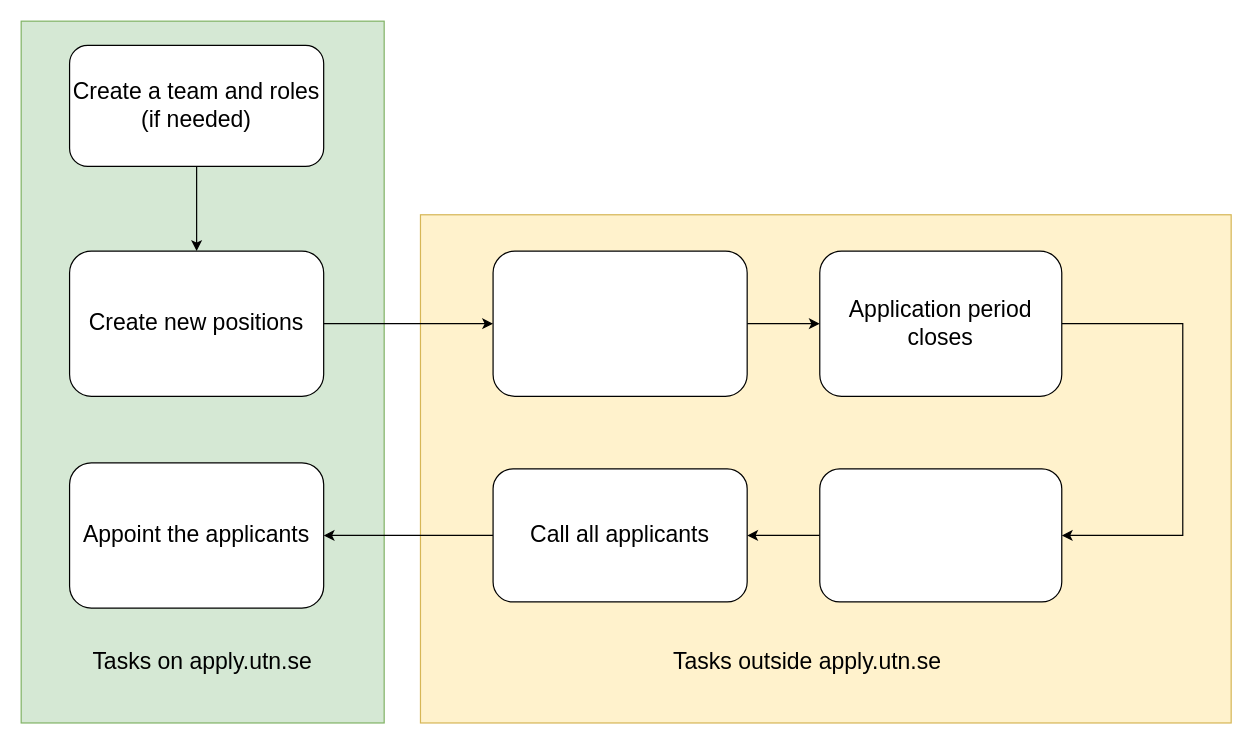
Image size: 1252x744. Some labels were removed from this diagram. Here are the shapes that lost their labels. From the top down, the box of each, then its label:
(492, 250, 747, 396): Application period opens
(819, 468, 1062, 602): Interview applicants
